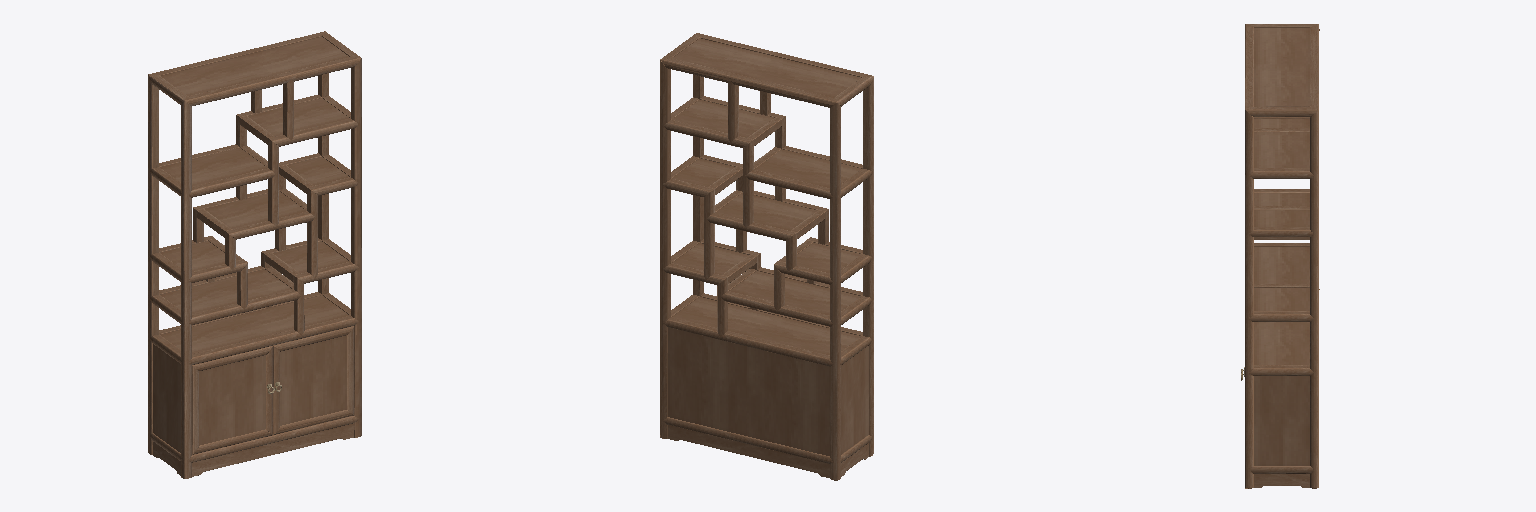
3 renders of one model, left to right at view 1: azimuth 30°, elevation 25°; view 2: azimuth 150°, elevation 25°; view 3: azimuth 270°, elevation 25°, orthographic.
Parts seen in each view (by area): view 1: solid_002; view 2: solid_002; view 3: solid_002.
Boxes of the visible parts, <box> form: solid_002: <box>148,31,361,478</box>; solid_002: <box>660,33,873,480</box>; solid_002: <box>1245,24,1319,488</box>.
Size of the model in its own units: 0.9895 by 2.01 by 0.3796.
Materials: 1 (1 with a texture image).